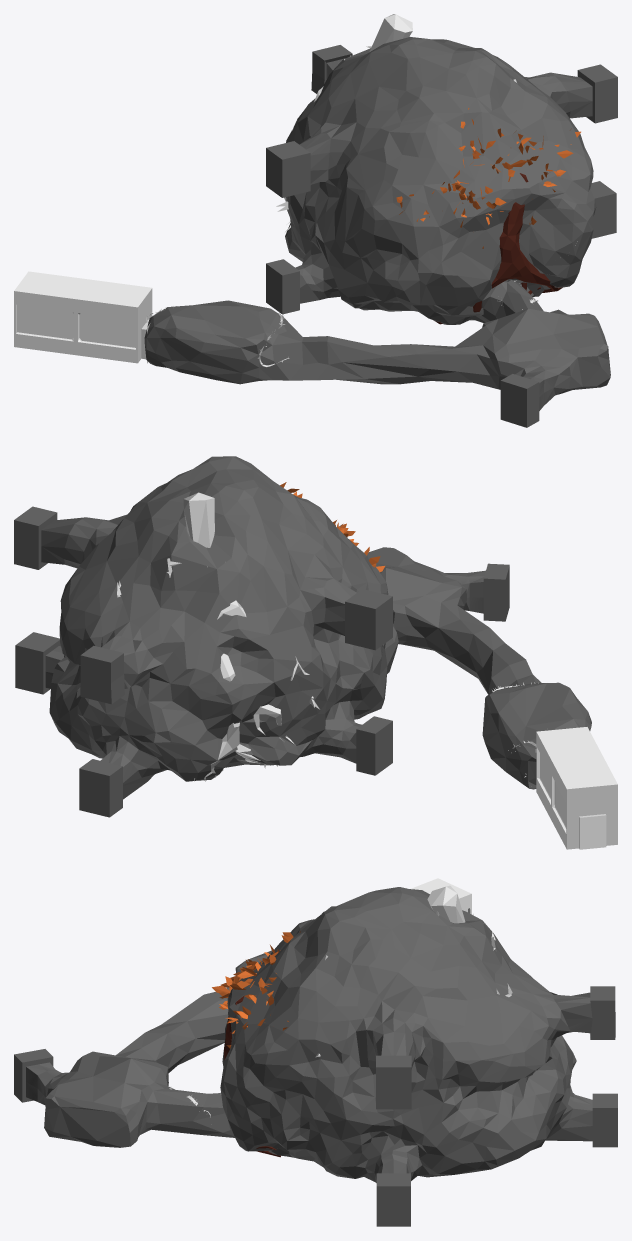
Rendered from Treelelve 1.fbx.
The picture shows the model from 3 angles, top to bottom: view 1: azimuth 30°, elevation 25°; view 2: azimuth 150°, elevation 25°; view 3: azimuth 270°, elevation 25°; orthographic projection. The views are drawn at different scales.
Parts seen in each view (by area): view 1: PoziomTestDeciamte, BezierCurve_130.002, DuzeDrzewo, Korzeń_Duży; view 2: PoziomTestDeciamte, BezierCurve_130.002, Korzeń_Duży; view 3: PoziomTestDeciamte, DuzeDrzewo, Korzeń_Duży, BezierCurve_130.002.
Part boxes in pixels (<box>): PoziomTestDeciamte: <box>144,37,617,427</box>; BezierCurve_130.002: <box>14,271,160,363</box>; DuzeDrzewo: <box>396,108,580,324</box>; Korzeń_Duży: <box>284,14,412,232</box>; PoziomTestDeciamte: <box>14,456,591,817</box>; BezierCurve_130.002: <box>535,727,617,849</box>; Korzeń_Duży: <box>183,492,309,781</box>; PoziomTestDeciamte: <box>14,887,617,1226</box>; DuzeDrzewo: <box>212,931,300,1157</box>; Korzeń_Duży: <box>427,885,465,923</box>; BezierCurve_130.002: <box>411,878,471,914</box>.
Size of the model in its own units: 14328 by 5744 by 12706.
